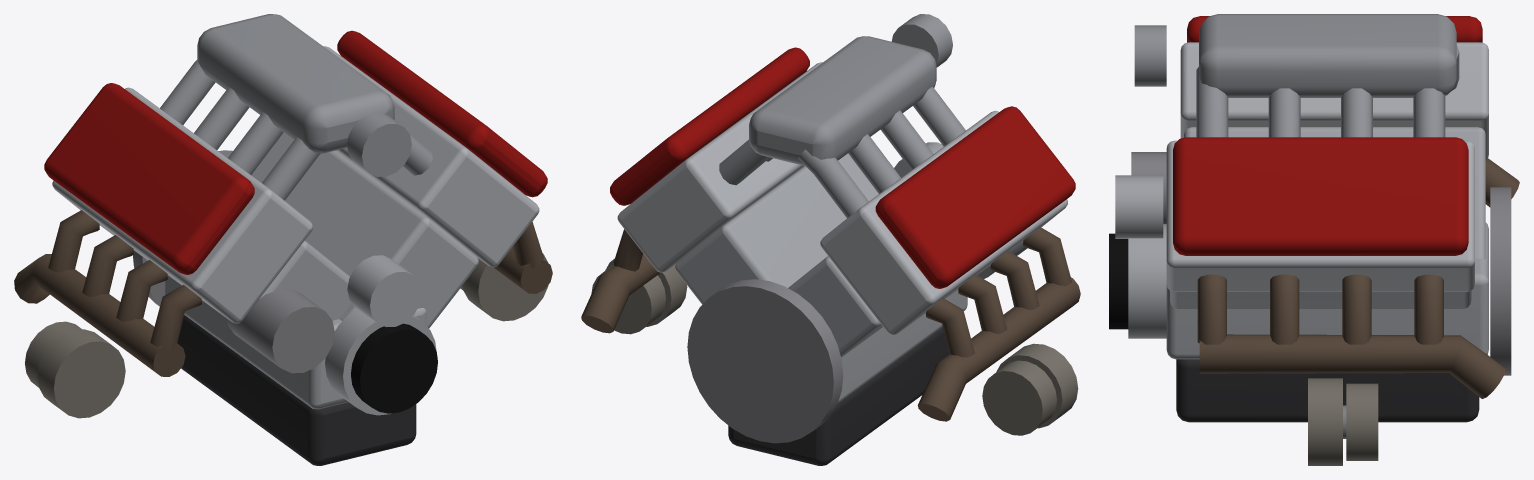
Rendered from hyper_v8_one1_audio.glb.
3 renders of one model, left to right at view 1: azimuth 30°, elevation 25°; view 2: azimuth 150°, elevation 25°; view 3: azimuth 270°, elevation 25°, orthographic. The views are drawn at different scales.
Visible parts, largest first — view 1: hyper_v8_one1_audio; view 2: hyper_v8_one1_audio; view 3: hyper_v8_one1_audio.
Boxes of the visible parts, bbox=[...] form: hyper_v8_one1_audio: bbox=[14, 14, 552, 465]; hyper_v8_one1_audio: bbox=[581, 14, 1080, 465]; hyper_v8_one1_audio: bbox=[1109, 14, 1519, 465].
Size of the model in its own units: 0.9388 by 0.6398 by 0.6425.
